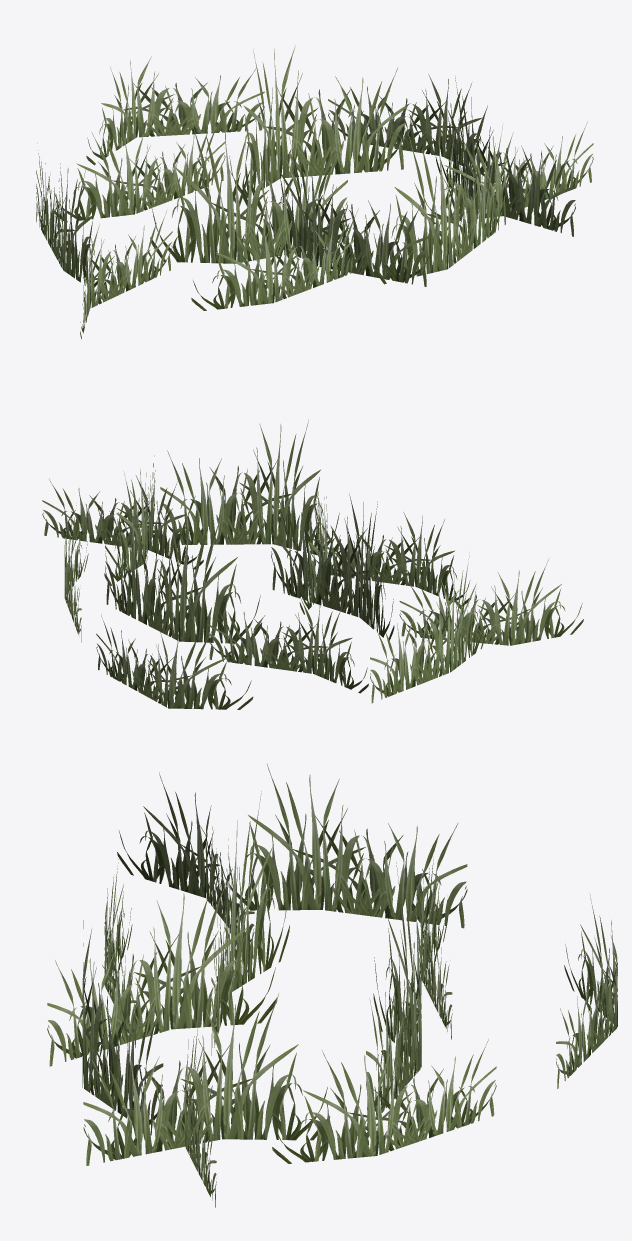
File: grass_h.fbx
The picture shows the model from 3 angles, top to bottom: view 1: azimuth 30°, elevation 25°; view 2: azimuth 150°, elevation 25°; view 3: azimuth 270°, elevation 25°; orthographic projection. The views are drawn at different scales.
Visible parts, largest first — view 1: grass_h_LOD0; view 2: grass_h_LOD0; view 3: grass_h_LOD0.
Part boxes in pixels (x1,y1,x2,y2): grass_h_LOD0: (36, 45, 593, 338); grass_h_LOD0: (42, 419, 583, 709); grass_h_LOD0: (47, 763, 617, 1207).
Bounding box in the file's own units: 125 × 30.33 × 86.47.
Materials: 1 (1 with a texture image).
